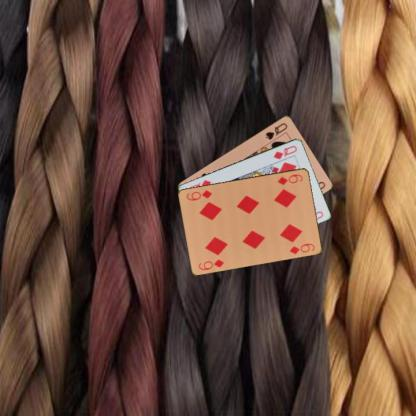6d: (275, 172, 304, 186), (196, 257, 225, 271)
Qd: (271, 142, 298, 160)
Qs: (263, 120, 289, 141)
